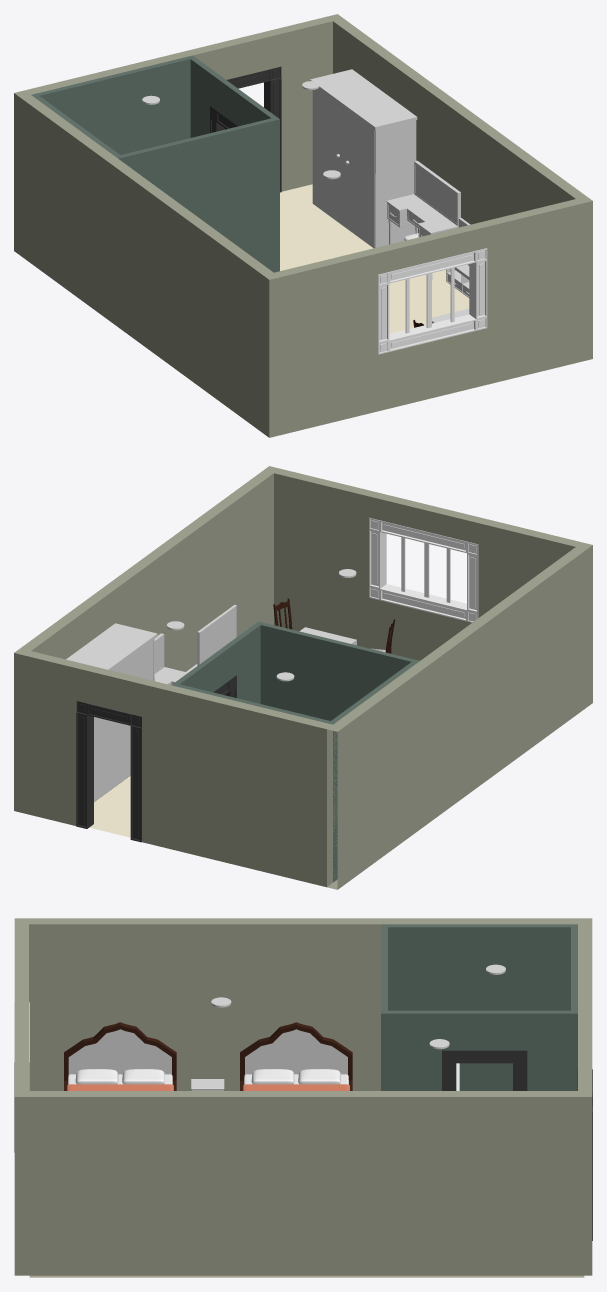
3 renders of one model, top to bottom at view 1: azimuth 30°, elevation 25°; view 2: azimuth 150°, elevation 25°; view 3: azimuth 270°, elevation 25°, orthographic. The views are drawn at different scales.
Visible parts, largest first — view 1: roomwall1, windowframe2, windowframe1, roomwall2, bathwall3, bathwall2, C_Structure.006, room_floor.002, roomdoorframe3, windowframe3, room_window.002, C_L_Open.006 (+10 smaller); view 2: roomwall1, roomdoorframe1, roomwall2, windowframe2, roomdoorframe3, bathwall3, room_window.002, windowframe1, windowframe3, roomdoorframe2, windowframe4, bathdoorframe2 (+8 smaller); view 3: roomwall2, roomwall1, bathwall1, bathdoorframe2, bed011, bed012, windowframe2, bathdoorframe1, bathdoorframe3, room_floor.002, roomdoorframe1, windowframe4 (+5 smaller).
Boxes of the visible parts, x1,y1,x2,y2 form: roomwall1: (14,90,279,437); windowframe2: (481,196,592,384); windowframe1: (274,249,377,435); roomwall2: (327,14,586,232); bathwall3: (121,118,274,272); bathwall2: (36,56,190,154); C_Structure.006: (310,69,417,248); room_floor.002: (280,184,469,333); roomdoorframe3: (264,16,332,192); windowframe3: (378,328,486,411); room_window.002: (378,248,487,354); C_L_Open.006: (344,108,374,246); roomwall1: (327,542,592,889); roomdoorframe1: (130,679,332,887); roomwall2: (14,470,273,813); windowframe2: (263,466,374,648); roomdoorframe3: (24,651,93,828); bathwall3: (260,623,414,720); room_window.002: (369,517,478,622); windowframe1: (478,518,581,617); windowframe3: (369,598,471,660); roomdoorframe2: (76,663,147,727); windowframe4: (369,492,483,543); bathdoorframe2: (171,621,263,695); roomwall2: (29,1091,592,1275); roomwall1: (14,918,592,1090); bathwall1: (381,924,577,1090); bathdoorframe2: (381,1010,577,1063); bed011: (240,1022,352,1090); bed012: (64,1022,176,1090); windowframe2: (14,1038,28,1275); bathdoorframe1: (381,1050,456,1090); bathdoorframe3: (513,1050,577,1090); room_floor.002: (29,1275,584,1277); roomdoorframe1: (578,924,592,1026); windowframe4: (14,978,28,1038).
Bounding box in the file's own units: 600 × 289 × 822.
